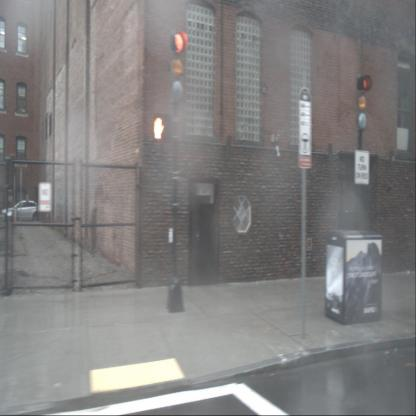cone: (13, 209, 18, 223)
